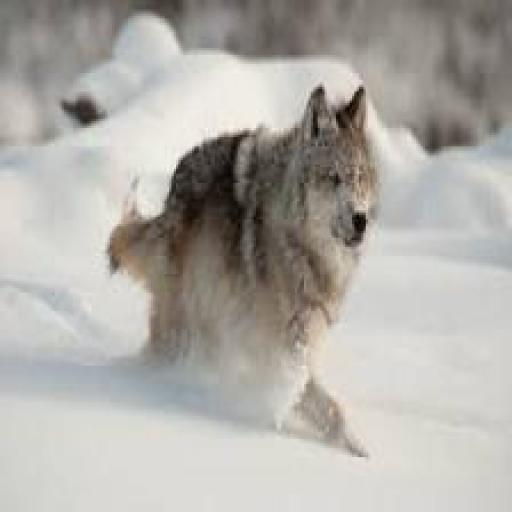wolf: (98, 73, 420, 474)
